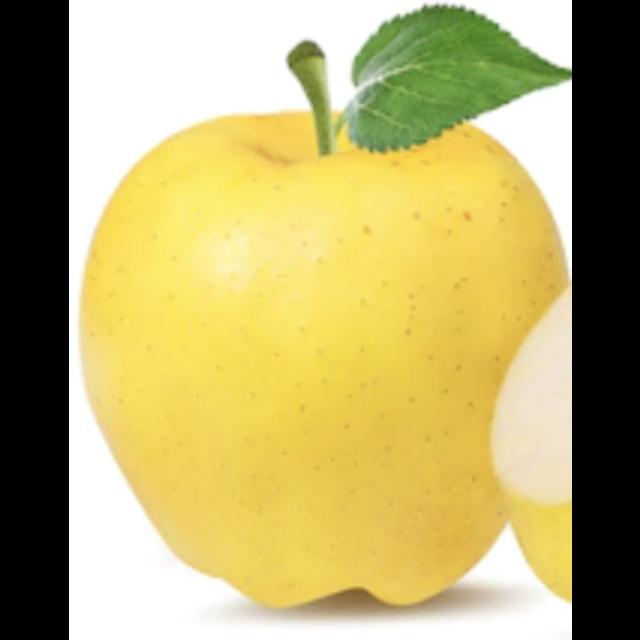Apel Segar: (72, 96, 570, 622)
